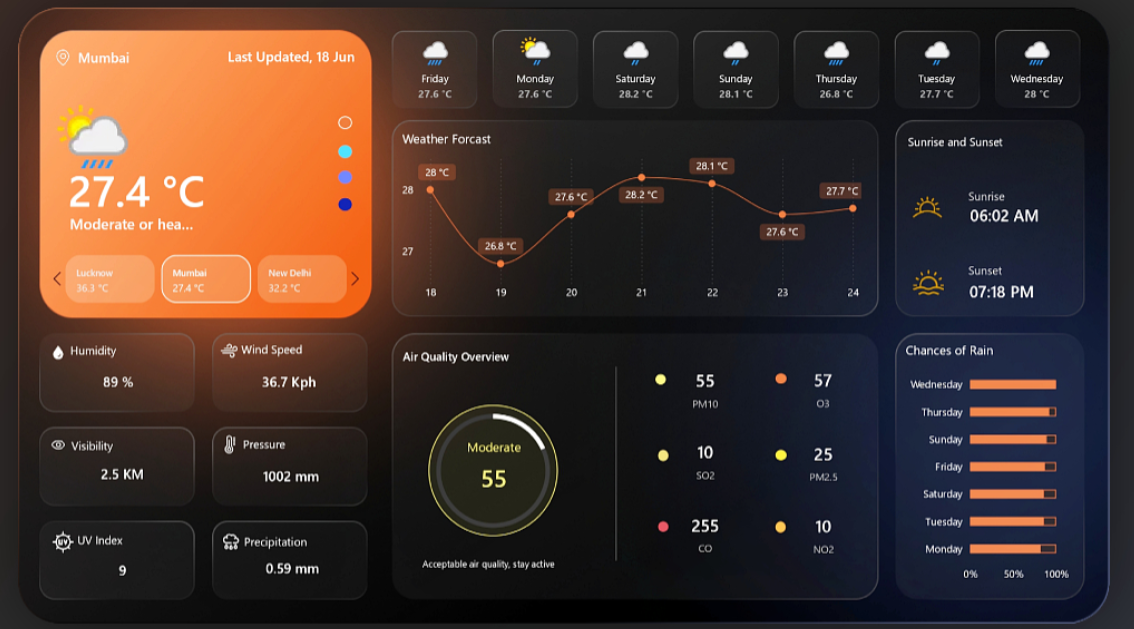

The page's visual inventory and layout, read from the dashboard file:
{"tool":"powerbi","page":{"name":"Page 1","canvas":[1280,720],"ordinal":0},"visuals":[{"type":"shape","box":[472,424,184,192],"z":0},{"type":"shape","box":[26.2,23.8,365.6,345.6],"z":1000},{"type":"advancedSlicerVisual","fields":{"Values":["Location.location.name"]},"box":[26,290,364,70],"z":2000},{"type":"shape","box":[75.5,150.9,178.4,123.5],"z":3000},{"type":"shape","box":[75.5,220.9,178.4,53.5],"z":4000},{"type":"shape","box":[68,46,178.4,39.8],"z":5000},{"type":"shape","box":[246,46,155,40],"z":6000},{"type":"cardVisual","fields":{"Data":["Min(current data.current.condition.icon)"]},"box":[39,111,126,86],"z":7000},{"type":"image","box":[37.2,486.1,30.6,22.8],"z":8000},{"type":"shape","box":[67.9,481.4,57.1,30.7],"z":9000},{"type":"image","box":[33.9,383.3,26.7,19.4],"z":10000},{"type":"shape","box":[60,377.1,107.2,31.1],"z":11000},{"type":"image","box":[41.4,594.3,22.9,24.3],"z":12000},{"type":"shape","box":[67.9,587.9,57.1,30.7],"z":13000},{"type":"image","box":[213.3,384,33.3,18.7],"z":14000},{"type":"shape","box":[242,377.3,72.9,30.7],"z":15000},{"type":"image","box":[216,489.5,30,22.5],"z":16000},{"type":"shape","box":[242,482.5,57.1,30.7],"z":17000},{"type":"image","box":[218,594,28,17.3],"z":18000},{"type":"shape","box":[242,587.3,81.3,30.7],"z":19000},{"type":"image","box":[44.3,52.1,23.6,27.1],"z":20000},{"type":"cardVisual","fields":{"Data":["Sum(current data.current.humidity)"]},"box":[56.7,366.7,190,130],"z":21000},{"type":"cardVisual","fields":{"Data":["current data.Wind_Speed"]},"box":[231.7,366.7,190,130],"z":22000},{"type":"cardVisual","fields":{"Data":["Sum(current data.current.pressure_in)"]},"box":[231.7,465,190,130],"z":23000},{"type":"cardVisual","fields":{"Data":["Sum(Master Data.current.precip_in)"]},"box":[231.7,570,190,130],"z":24000},{"type":"cardVisual","fields":{"Data":["Sum(current data.current.uv)"]},"box":[51.7,570,190,130],"z":25000},{"type":"cardVisual","fields":{"Data":["Sum(current data.current.vis_km)"]},"box":[56.7,473.3,190,130],"z":26000},{"type":"advancedSlicerVisual","fields":{"Values":["Days.Day_Name"]},"box":[401.7,23.3,848.3,106.7],"z":27000},{"type":"lineChart","title":"Forcast weather","fields":{"Y":["Sum(Forcast_days.forecast.forecastday.day.avgtemp_c)"],"Category":["Days.Day_Name"]},"box":[401.7,140,585,216.7],"z":28000},{"type":"shape","box":[1015,133.3,190,40],"z":29000},{"type":"shape","box":[1078.3,221.7,190,40],"z":30000},{"type":"shape","box":[1078.3,290,190,40],"z":31000},{"type":"shape","box":[1078.3,193.3,190,40],"z":32000},{"type":"shape","box":[1078.3,261.7,190,40],"z":33000},{"type":"image","box":[1010.8,263.8,70,52.3],"z":34000},{"type":"image","box":[1015.4,203.1,60,36.2],"z":35000},{"type":"hundredPercentStackedBarChart","title":"Chance of Rain","fields":{"Y":["Sum(Forcast_days.forecast.forecastday.day.daily_chance_of_rain)","current data.Left_rain_details"],"Category":["Days.Day_Name"]},"box":[1010.8,377.7,231.5,303.1],"z":36000},{"type":"shape","box":[421.4,372.9,190,40],"z":37000},{"type":"cardVisual","title":"PM 10","fields":{"Data":["Sum(current data.current.air_quality.pm10)"]},"box":[888.6,408.6,114.3,70],"z":38000},{"type":"cardVisual","title":"PM 10","fields":{"Data":["Sum(current data.current.air_quality.co)"]},"box":[894.3,485.7,95,70],"z":39000},{"type":"textbox","box":[916.2,461.2,50,33.8],"z":40000},{"type":"textbox","box":[924.3,535.7,35.7,32.9],"z":41000},{"type":"cardVisual","title":"PM 10","fields":{"Data":["Sum(current data.current.air_quality.no2)"]},"box":[903.8,552.5,99.1,70.1],"z":42000},{"type":"textbox","box":[917.1,602.9,70,32.9],"z":43000},{"type":"cardVisual","title":"PM 10","fields":{"Data":["Sum(current data.current.air_quality.so2)"]},"box":[751.4,408.6,114.3,70],"z":44000},{"type":"textbox","box":[780,461.4,50,33.8],"z":45000},{"type":"cardVisual","title":"PM 10","fields":{"Data":["Sum(current data.current.air_quality.o3)"]},"box":[760,490,120,70],"z":46000},{"type":"textbox","box":[788.6,538.6,50,33.8],"z":47000},{"type":"cardVisual","title":"PM 10","fields":{"Data":["Sum(current data.current.air_quality.pm2_5)"]},"box":[768.6,552.9,114.3,70],"z":48000},{"type":"textbox","box":[788.6,602.9,82.9,37.1],"z":49000},{"type":"shape","box":[760,435.5,15,17.9],"z":50000},{"type":"shape","box":[760.8,517.7,15,17.9],"z":51000},{"type":"shape","box":[760,586.2,15,17.9],"z":52000},{"type":"shape","box":[894,436,15,17.9],"z":53000},{"type":"shape","box":[896,518,15,17.9],"z":54000},{"type":"shape","box":[896,578,15,17.9],"z":55000},{"type":"shape","box":[642,412,188,228],"z":56000},{"type":"cardVisual","title":"PM 10","fields":{"Data":["Sum(current data.current.air_quality.co)"]},"box":[516,522,95,70],"z":57000},{"type":"textbox","box":[526,474,96,60],"z":58000},{"type":"donutChart","title":"PM 10","fields":{"Y":["Sum(current data.current.air_quality.co)","current data.LEFT_VALUE-PM10"]},"box":[454,412,220,212],"z":59000},{"type":"shape","box":[420,634,382,40],"z":60000}]}

Visuals, with their boxes in screenshot pixels (x1, y1, x2, y2), scaled from the page's 1280x720 canvas onto the 1134x629 screenshot:
shape: pyautogui.locateOnScreen(418, 370, 581, 538)
shape: pyautogui.locateOnScreen(23, 21, 347, 323)
advancedSlicerVisual - Location.location.name: pyautogui.locateOnScreen(23, 253, 346, 314)
shape: pyautogui.locateOnScreen(67, 132, 225, 240)
shape: pyautogui.locateOnScreen(67, 193, 225, 240)
shape: pyautogui.locateOnScreen(60, 40, 218, 75)
shape: pyautogui.locateOnScreen(218, 40, 355, 75)
cardVisual - Min(current data.current.condition.icon): pyautogui.locateOnScreen(35, 97, 146, 172)
image: pyautogui.locateOnScreen(33, 425, 60, 445)
shape: pyautogui.locateOnScreen(60, 421, 111, 447)
image: pyautogui.locateOnScreen(30, 335, 54, 352)
shape: pyautogui.locateOnScreen(53, 329, 148, 357)
image: pyautogui.locateOnScreen(37, 519, 57, 540)
shape: pyautogui.locateOnScreen(60, 514, 111, 540)
image: pyautogui.locateOnScreen(189, 335, 218, 352)
shape: pyautogui.locateOnScreen(214, 330, 279, 356)
image: pyautogui.locateOnScreen(191, 428, 218, 447)
shape: pyautogui.locateOnScreen(214, 422, 265, 448)
image: pyautogui.locateOnScreen(193, 519, 218, 534)
shape: pyautogui.locateOnScreen(214, 513, 286, 540)
image: pyautogui.locateOnScreen(39, 46, 60, 69)
cardVisual - Sum(current data.current.humidity): pyautogui.locateOnScreen(50, 320, 219, 434)
cardVisual - current data.Wind_Speed: pyautogui.locateOnScreen(205, 320, 374, 434)
cardVisual - Sum(current data.current.pressure_in): pyautogui.locateOnScreen(205, 406, 374, 520)
cardVisual - Sum(Master Data.current.precip_in): pyautogui.locateOnScreen(205, 498, 374, 612)
cardVisual - Sum(current data.current.uv): pyautogui.locateOnScreen(46, 498, 214, 612)
cardVisual - Sum(current data.current.vis_km): pyautogui.locateOnScreen(50, 413, 219, 527)
advancedSlicerVisual - Days.Day_Name: pyautogui.locateOnScreen(356, 20, 1107, 114)
"Forcast weather" lineChart: pyautogui.locateOnScreen(356, 122, 874, 312)
shape: pyautogui.locateOnScreen(899, 116, 1068, 151)
shape: pyautogui.locateOnScreen(955, 194, 1124, 229)
shape: pyautogui.locateOnScreen(955, 253, 1124, 288)
shape: pyautogui.locateOnScreen(955, 169, 1124, 204)
shape: pyautogui.locateOnScreen(955, 229, 1124, 264)
image: pyautogui.locateOnScreen(896, 230, 958, 276)
image: pyautogui.locateOnScreen(900, 177, 953, 209)
"Chance of Rain" hundredPercentStackedBarChart: pyautogui.locateOnScreen(896, 330, 1101, 595)
shape: pyautogui.locateOnScreen(373, 326, 542, 361)
"PM 10" cardVisual: pyautogui.locateOnScreen(787, 357, 889, 418)
"PM 10" cardVisual: pyautogui.locateOnScreen(792, 424, 876, 485)
textbox: pyautogui.locateOnScreen(812, 403, 856, 432)
textbox: pyautogui.locateOnScreen(819, 468, 850, 497)
"PM 10" cardVisual: pyautogui.locateOnScreen(801, 483, 889, 544)
textbox: pyautogui.locateOnScreen(812, 527, 875, 555)
"PM 10" cardVisual: pyautogui.locateOnScreen(666, 357, 767, 418)
textbox: pyautogui.locateOnScreen(691, 403, 735, 433)
"PM 10" cardVisual: pyautogui.locateOnScreen(673, 428, 780, 489)
textbox: pyautogui.locateOnScreen(699, 471, 743, 500)
"PM 10" cardVisual: pyautogui.locateOnScreen(681, 483, 782, 544)
textbox: pyautogui.locateOnScreen(699, 527, 772, 559)
shape: pyautogui.locateOnScreen(673, 380, 687, 396)
shape: pyautogui.locateOnScreen(674, 452, 687, 468)
shape: pyautogui.locateOnScreen(673, 512, 687, 528)
shape: pyautogui.locateOnScreen(792, 381, 805, 397)
shape: pyautogui.locateOnScreen(794, 453, 807, 468)
shape: pyautogui.locateOnScreen(794, 505, 807, 521)
shape: pyautogui.locateOnScreen(569, 360, 735, 559)
"PM 10" cardVisual: pyautogui.locateOnScreen(457, 456, 541, 517)
textbox: pyautogui.locateOnScreen(466, 414, 551, 467)
"PM 10" donutChart: pyautogui.locateOnScreen(402, 360, 597, 545)
shape: pyautogui.locateOnScreen(372, 554, 711, 589)
